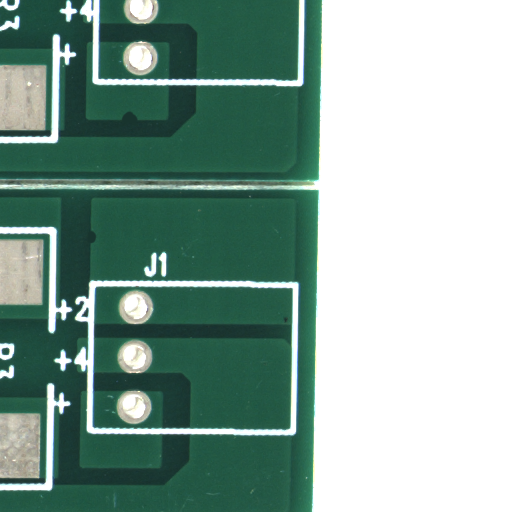Mouse_bite: (129, 116, 143, 127), (93, 237, 101, 252)
